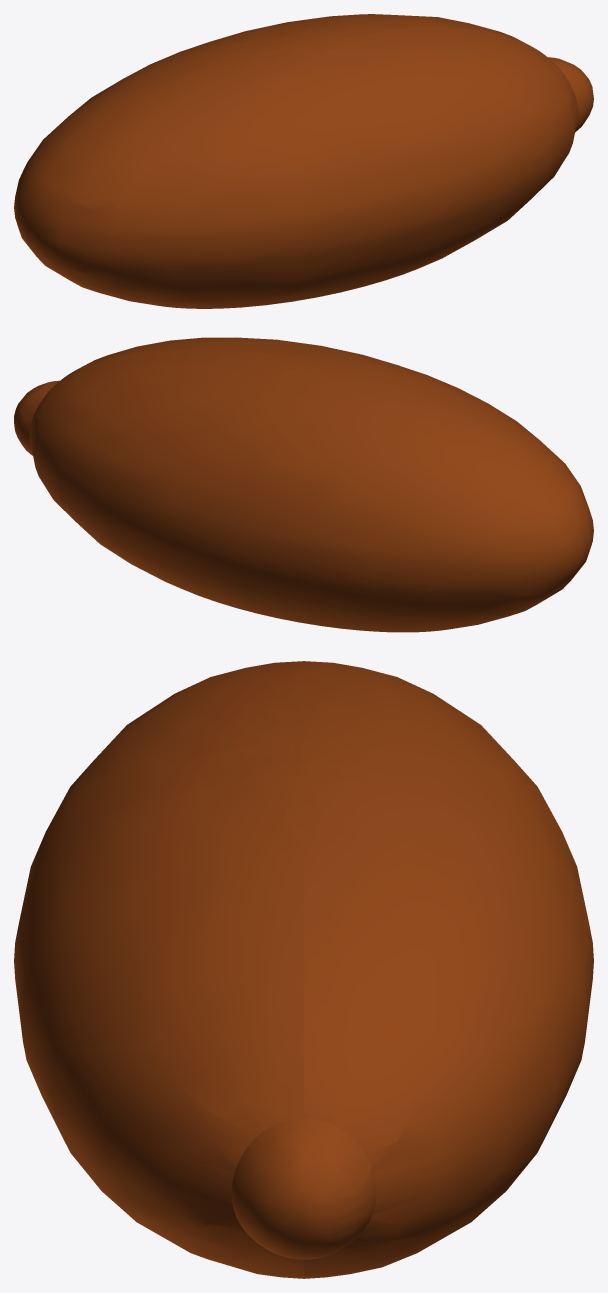
File: knockseed.glb
3 views of the same model, one above another, from view 1: azimuth 30°, elevation 25°; view 2: azimuth 150°, elevation 25°; view 3: azimuth 270°, elevation 25° (orthographic). The views are drawn at different scales.
Parts seen in each view (by area): view 1: knockseed; view 2: knockseed; view 3: knockseed.
Part boxes in pixels (box(x1,y1,x2,y2)): knockseed: box(14, 14, 593, 308); knockseed: box(14, 337, 593, 632); knockseed: box(14, 661, 593, 1278).
Size of the model in its own units: 0.0361 by 0.0127 by 0.0184.
